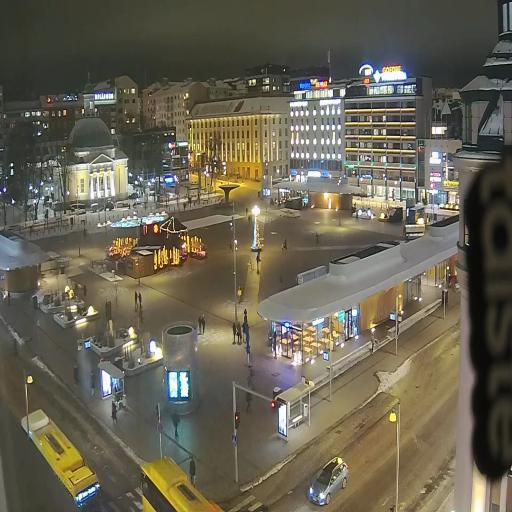Bus: (22, 409, 101, 512), (141, 457, 222, 512)
